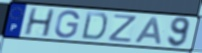9: (165, 16, 191, 49)
A: (133, 17, 163, 46)
D: (80, 11, 109, 42)
G: (53, 10, 82, 40)
H: (22, 7, 56, 38)
Z: (106, 13, 139, 44)
